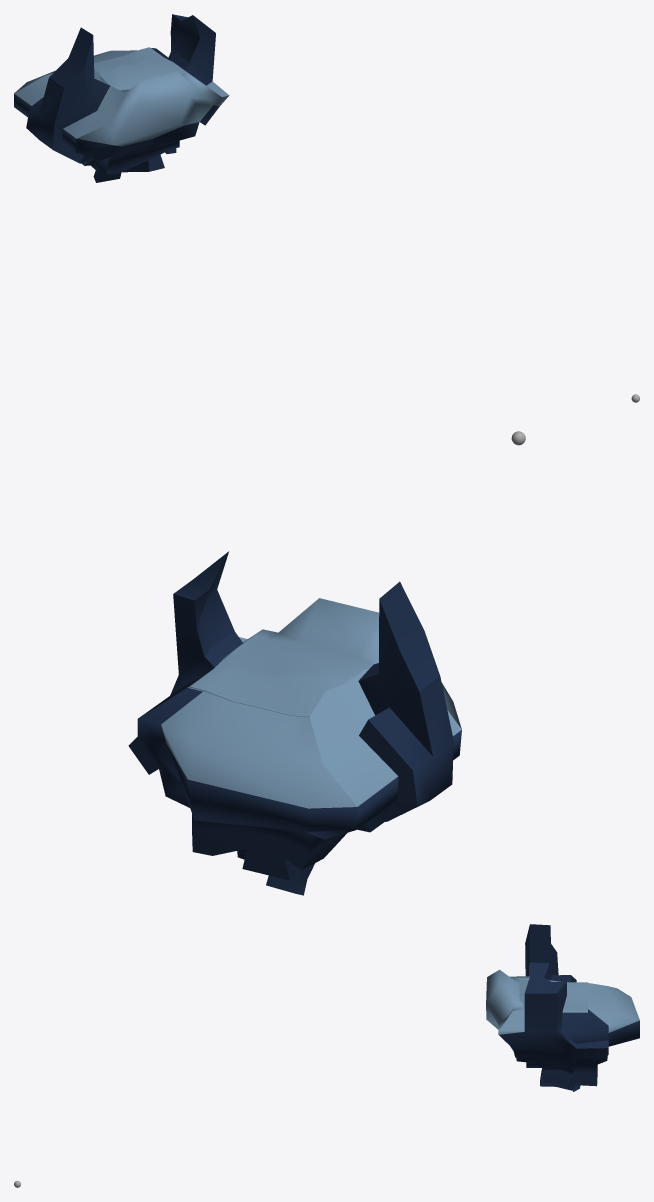
Rendered from Night_Small_Island.fbx.
The picture shows the model from 3 angles, top to bottom: view 1: azimuth 30°, elevation 25°; view 2: azimuth 150°, elevation 25°; view 3: azimuth 270°, elevation 25°; orthographic projection. The views are drawn at different scales.
Parts seen in each view (by area): view 1: pCube1; view 2: pCube1; view 3: pCube1.
Boxes of the visible parts, x1=… form: pCube1: x1=14, y1=14, x2=229, y2=182; pCube1: x1=128, y1=551, x2=461, y2=895; pCube1: x1=486, y1=924, x2=639, y2=1091.
Size of the model in its own units: 76.26 by 52.47 by 178.
